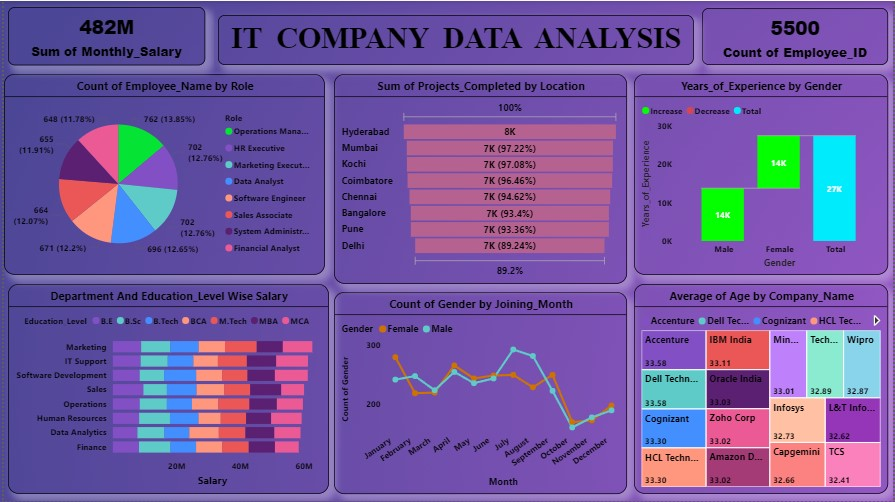

This screenshot's page, from the dashboard's own definition file:
{"tool":"powerbi","page":{"name":"Page 1","canvas":[1280,720],"ordinal":0},"visuals":[{"type":"barChart","title":"Department And Education_Level Wise Salary","fields":{"Y":["Sum(Sheet1.Monthly_Salary)"],"Series":["Sheet1.Education_Level"],"Category":["Sheet1.Department"]},"box":[5.8,407.5,462.2,302.4],"z":0},{"type":"pieChart","fields":{"Category":["Sheet1.Role"],"Y":["CountNonNull(Sheet1.Employee_Name)"]},"box":[0,105.1,462.2,289.4],"z":1000},{"type":"lineChart","title":"Count of Gender by Joining_Month","fields":{"Category":["Sheet1.Join_Date.Variation.Date Hierarchy.Year","Sheet1.Join_Date.Variation.Date Hierarchy.Quarter","Sheet1.Join_Date.Variation.Date Hierarchy.Month","Sheet1.Join_Date.Variation.Date Hierarchy.Day"],"Y":["CountNonNull(Sheet1.Gender)"],"Series":["Sheet1.Gender"]},"box":[475.2,419,421.9,290.9],"z":2000},{"type":"funnel","fields":{"Y":["Sum(Sheet1.Projects_Completed)"],"Category":["Sheet1.Location"]},"box":[475.2,105.1,421.9,302.4],"z":3000},{"type":"waterfallChart","title":"Years_of_Experience by Gender","fields":{"Category":["Sheet1.Gender"],"Y":["Sum(Sheet1.Years_of_Experience)"]},"box":[907.2,105.1,365.8,289.4],"z":4000},{"type":"treemap","fields":{"Group":["Sheet1.Company_Name"],"Values":["Avg(Sheet1.Age)"]},"box":[907.2,407.5,365.8,302.4],"z":5000},{"type":"card","fields":{"Values":["CountNonNull(Sheet1.Employee_ID)"]},"box":[1005.1,10.1,267.8,82.1],"z":6000},{"type":"card","fields":{"Values":["Sum(Sheet1.Monthly_Salary)"]},"box":[5.8,8.6,283.7,83.5],"z":7000},{"type":"textbox","box":[308.2,20.2,685.4,72],"z":8000}]}

Visuals, with their boxes in screenshot pixels (x1, y1, x2, y2), scaled from the page's 1280x720 canvas onto the 895x502 screenshot:
"Department And Education_Level Wise Salary" barChart: region(4, 284, 327, 495)
pieChart - Sheet1.Role x CountNonNull(Sheet1.Employee_Name): region(0, 73, 323, 275)
"Count of Gender by Joining_Month" lineChart: region(332, 292, 627, 495)
funnel - Sum(Sheet1.Projects_Completed) x Sheet1.Location: region(332, 73, 627, 284)
"Years_of_Experience by Gender" waterfallChart: region(634, 73, 890, 275)
treemap - Sheet1.Company_Name x Avg(Sheet1.Age): region(634, 284, 890, 495)
card - CountNonNull(Sheet1.Employee_ID): region(703, 7, 890, 64)
card - Sum(Sheet1.Monthly_Salary): region(4, 6, 202, 64)
textbox: region(215, 14, 695, 64)
